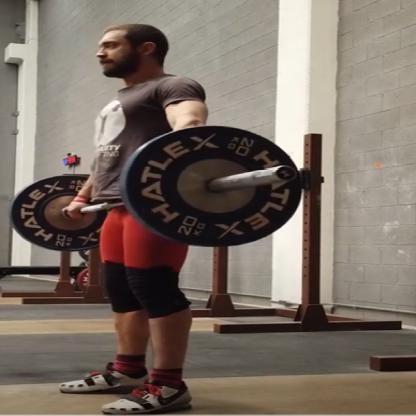Barbell: (119, 121, 314, 249)
